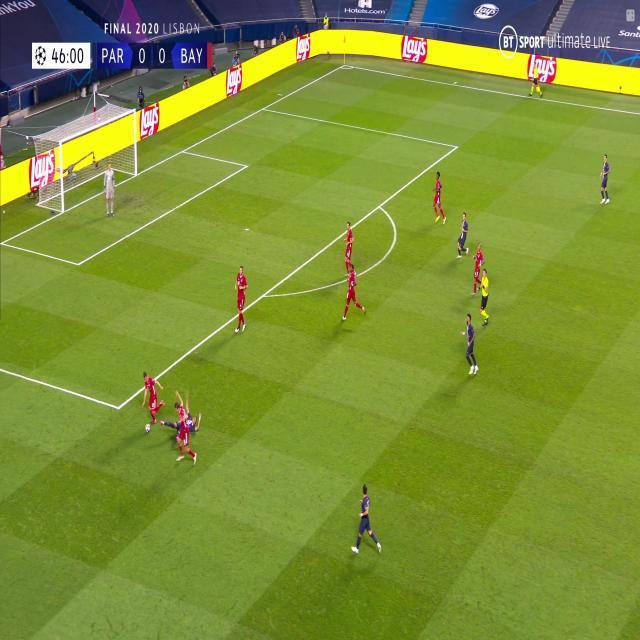ball: (145, 422, 151, 434)
goalkeeper: (103, 162, 116, 220)
player: (349, 484, 382, 558), (174, 392, 197, 469), (341, 263, 366, 327), (160, 406, 203, 442), (141, 371, 166, 429), (459, 312, 480, 377), (234, 263, 249, 336), (341, 223, 358, 285), (470, 242, 486, 296), (432, 170, 447, 225), (598, 153, 612, 206), (456, 211, 471, 260)
referee: (478, 269, 491, 326), (529, 61, 543, 100)
